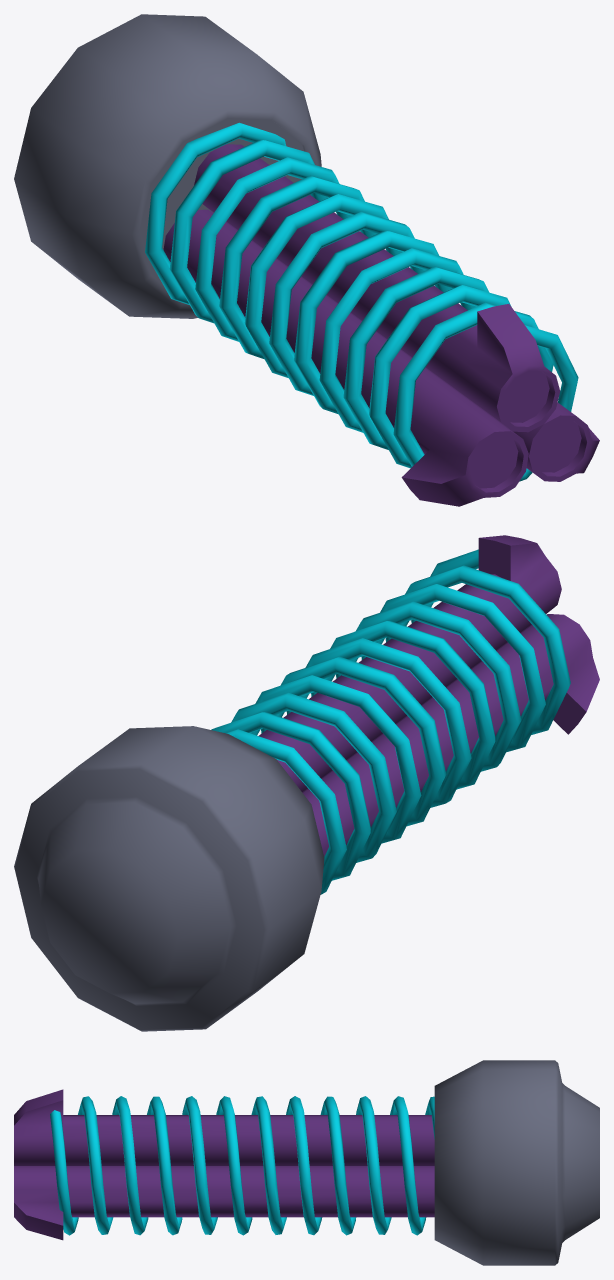
File: Dulo4.fbx
The picture shows the model from 3 angles, top to bottom: view 1: azimuth 30°, elevation 25°; view 2: azimuth 150°, elevation 25°; view 3: azimuth 270°, elevation 25°; orthographic projection. The views are drawn at different scales.
Parts seen in each view (by area): view 1: Dulo5; view 2: Dulo5; view 3: Dulo5.
Boxes of the visible parts, x1,y1,x2,y2 form: Dulo5: (14, 14, 599, 506); Dulo5: (14, 535, 599, 1031); Dulo5: (14, 1060, 599, 1265).
Bounding box in the file's own units: 71.96 × 71.96 × 205.
